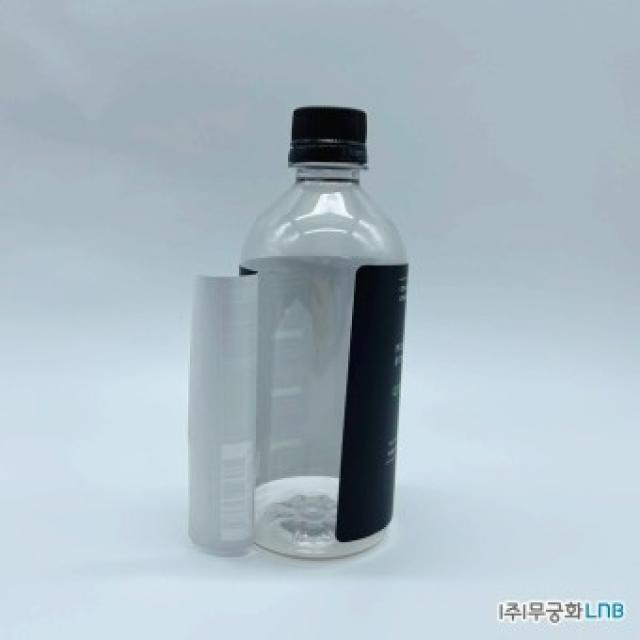plastic bottle: (234, 107, 406, 557)
